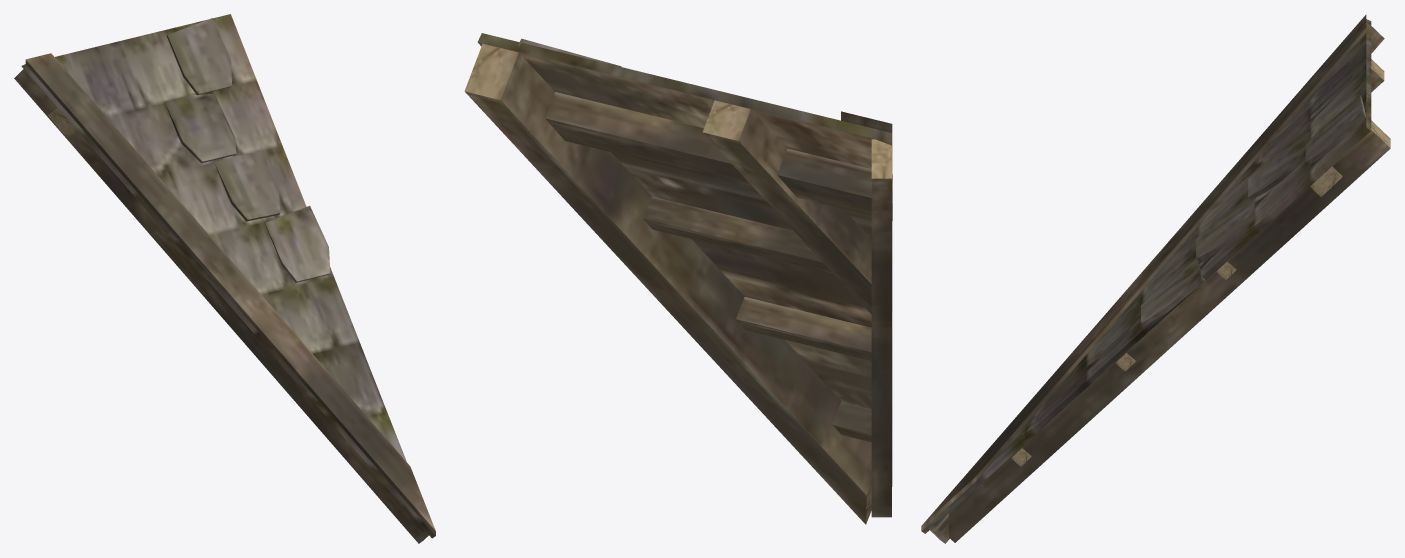
The model's file is roof.wood.corner.60.concave.l.glb.
3 views of the same model, side by side, from view 1: azimuth 30°, elevation 25°; view 2: azimuth 150°, elevation 25°; view 3: azimuth 270°, elevation 25° (orthographic). The views are drawn at different scales.
Parts seen in each view (by area): view 1: LOD0; view 2: LOD0; view 3: LOD0.
Boxes of the visible parts, x1,y1,x2,y2 form: LOD0: (14, 14, 435, 543); LOD0: (464, 33, 892, 524); LOD0: (921, 14, 1390, 543).
Size of the model in its own units: 1.82 by 3.14 by 3.16.
Materials: 1 (1 with a texture image).
